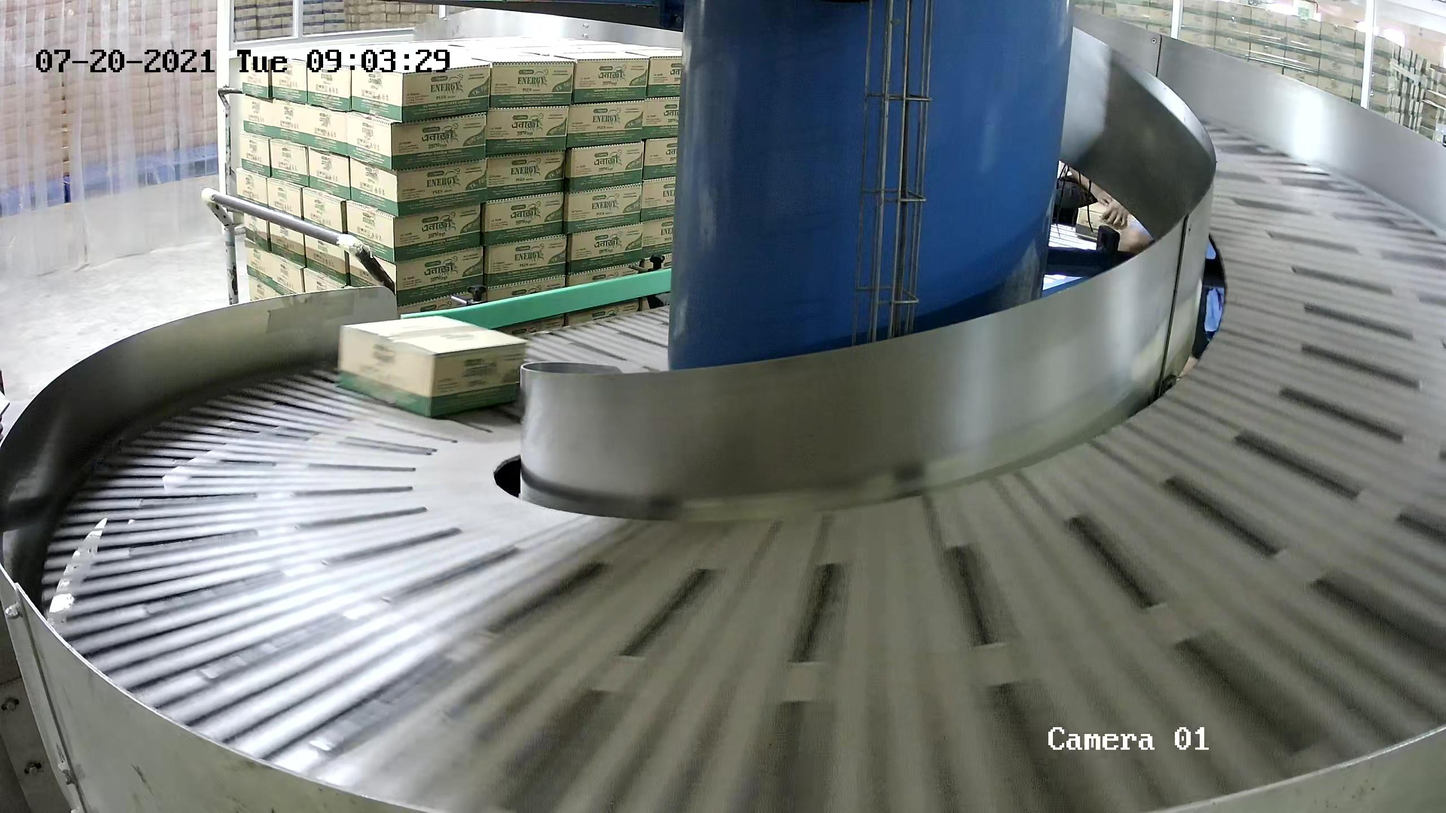Box: (335, 313, 530, 420)
